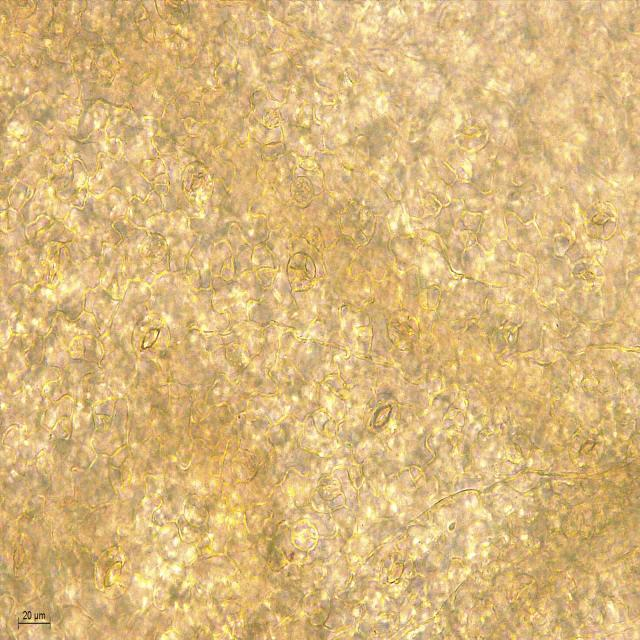Stomata: (128, 311, 174, 365), (93, 544, 134, 601), (361, 390, 402, 443), (376, 547, 416, 599), (179, 158, 217, 210), (384, 304, 424, 352), (36, 240, 74, 290), (568, 424, 607, 470), (568, 255, 608, 298), (4, 529, 37, 581), (583, 198, 621, 243), (453, 115, 491, 156), (504, 572, 541, 614), (285, 248, 318, 294), (290, 518, 321, 553), (152, 0, 192, 26), (182, 492, 210, 528), (230, 448, 258, 484)
